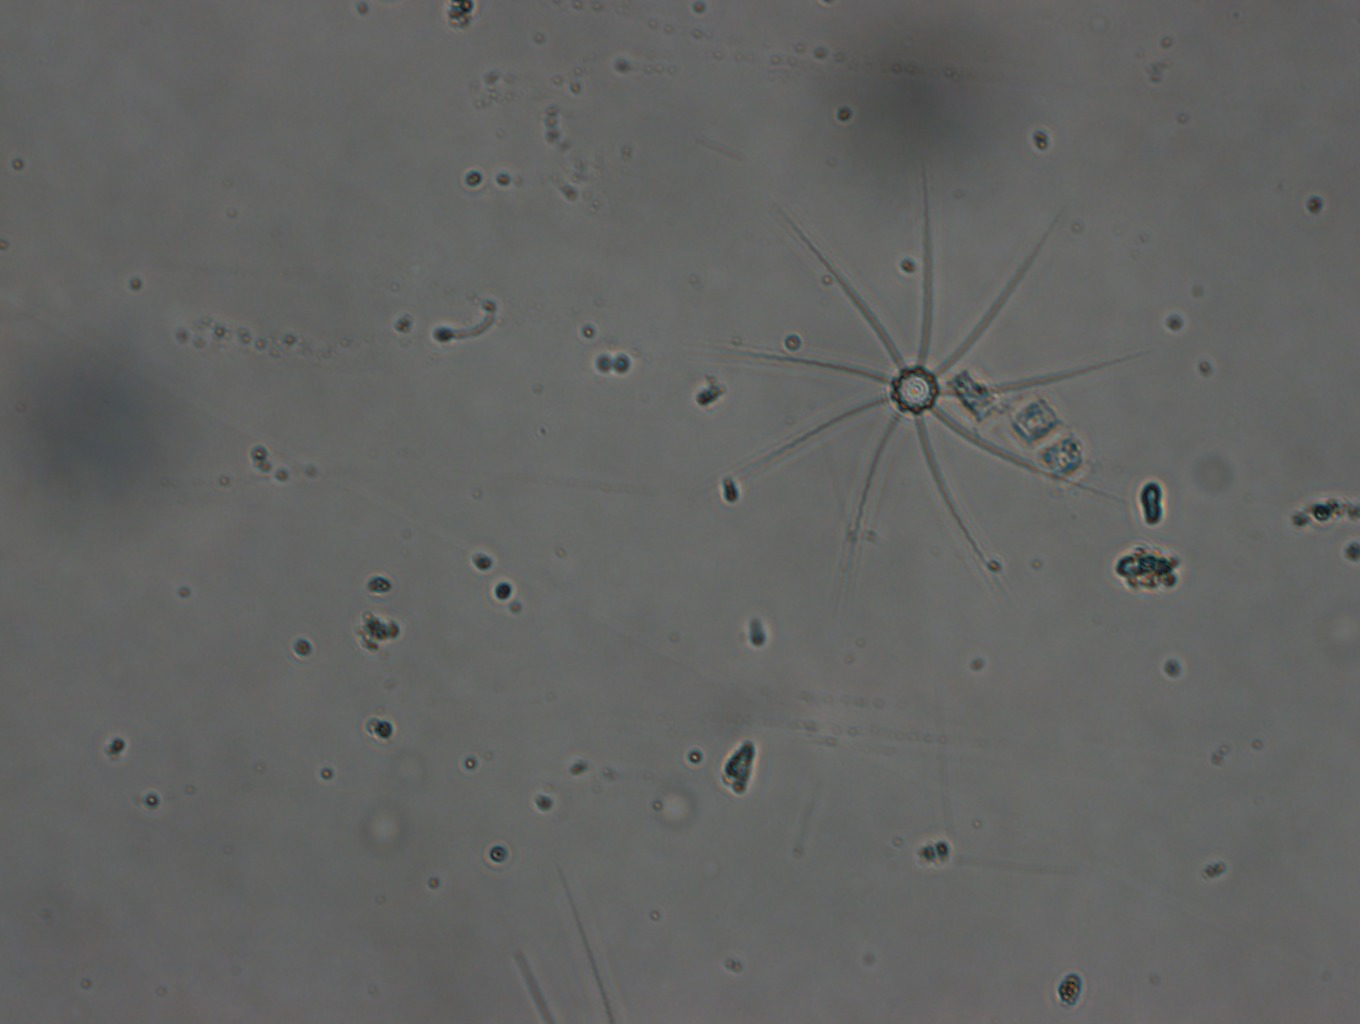bacteriastrum: (755, 173, 1137, 582)
